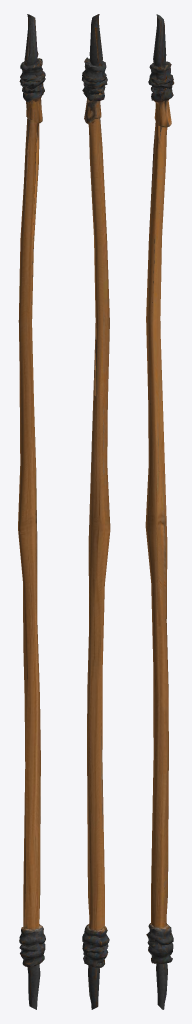
File: gear_roman_cavalry_lance_0.glb
3 views of the same model, side by side, from view 1: azimuth 30°, elevation 25°; view 2: azimuth 150°, elevation 25°; view 3: azimuth 330°, elevation 25° (orthographic).
Visible parts, largest first — view 1: MeshyGear_gear_roman_cavalry_lance; view 2: MeshyGear_gear_roman_cavalry_lance; view 3: MeshyGear_gear_roman_cavalry_lance.
Part boxes in pixels (x1=…): MeshyGear_gear_roman_cavalry_lance: x1=18, y1=14, x2=45, y2=1009; MeshyGear_gear_roman_cavalry_lance: x1=82, y1=14, x2=110, y2=1009; MeshyGear_gear_roman_cavalry_lance: x1=145, y1=14, x2=174, y2=1009.
Size of the model in its own units: 0.0642 by 2.29 by 0.0504.
1 material, 1 textured.
